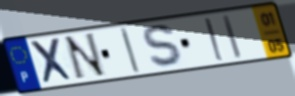I: (118, 26, 143, 76), (202, 16, 227, 63), (220, 12, 244, 60)
N: (62, 31, 110, 83)
S: (141, 22, 187, 70)
X: (27, 36, 77, 86)
